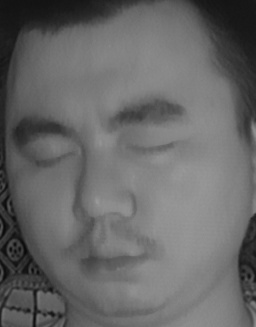blink: (126, 130, 175, 165), (28, 139, 74, 176)
mouth: (67, 231, 151, 283)
